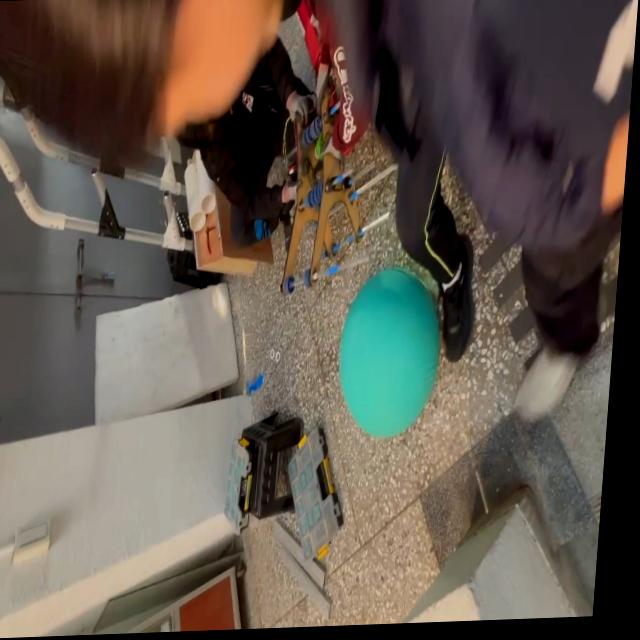ALGAE: (332, 264, 447, 441)
